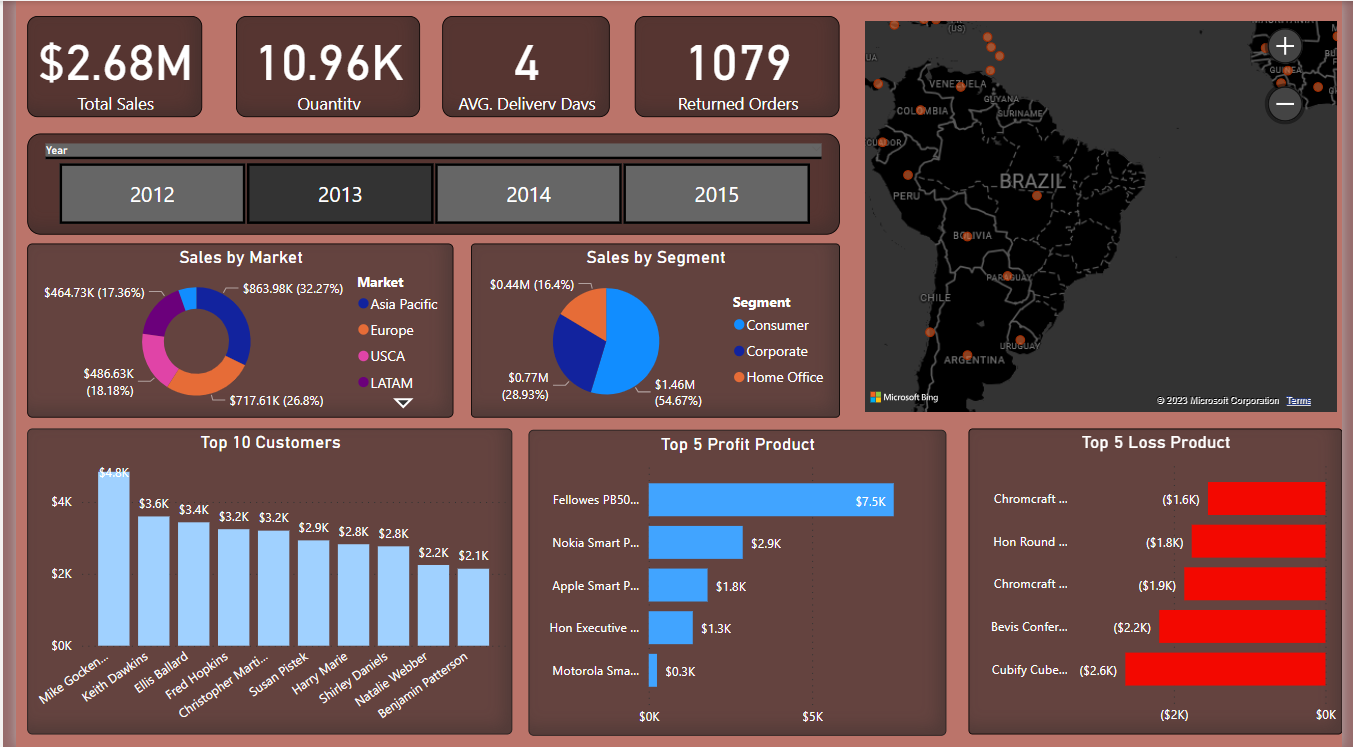

The page's visual inventory and layout, read from the dashboard file:
{"tool":"powerbi","page":{"name":"Page 1","canvas":[1280,720],"ordinal":0},"visuals":[{"type":"card","fields":{"Values":["Orders.Sales"]},"box":[10.9,14.5,168.8,97.7],"z":0},{"type":"card","fields":{"Values":["Orders.Quantity"]},"box":[212.3,14.5,177.3,97.7],"z":1},{"type":"card","fields":{"Values":["Orders.Delivery Days"]},"box":[411.3,14.5,161.6,97.7],"z":2},{"type":"slicer","fields":{"Values":["Orders.Year"]},"box":[10.9,127.8,783.9,97.7],"z":3},{"type":"card","fields":{"Values":["Returns.Returned Orders"]},"box":[597,14.5,197.8,97.7],"z":4},{"type":"map","fields":{"Category":["Orders.Country","Orders.Region"]},"box":[814.1,14.5,465.5,387.1],"z":5},{"type":"clusteredBarChart","title":"Top 5 Profit Product","fields":{"Category":["Orders.Product Name"],"Y":["Orders.Profit"]},"box":[494.5,413.7,402.8,295.5],"z":6},{"type":"clusteredBarChart","title":"Top 5 Loss Product","fields":{"Category":["Orders.Product Name"],"Y":["Orders.Profit"]},"box":[919,412.5,360.6,295.5],"z":7},{"type":"pieChart","title":"Sales by Segment","fields":{"Category":["Orders.Segment"],"Y":["Orders.Sales"]},"box":[439,234,355.8,167.6],"z":9},{"type":"donutChart","title":"Sales by Market","fields":{"Category":["Orders.Market"],"Y":["Orders.Sales"]},"box":[10.9,234,411.3,167.6],"z":10},{"type":"columnChart","title":"Top 10 Customers","fields":{"Category":["Orders.Customer Name"],"Y":["Orders.Profit"]},"box":[10.9,412.5,467.9,295.5],"z":11}]}

Visuals, with their boxes in screenshot pixels (x1, y1, x2, y2), scaled from the page's 1280x720 canvas onto the 1353x747 screenshot:
card - Orders.Sales: locate(12, 15, 190, 116)
card - Orders.Quantity: locate(224, 15, 412, 116)
card - Orders.Delivery Days: locate(435, 15, 606, 116)
slicer - Orders.Year: locate(12, 133, 840, 234)
card - Returns.Returned Orders: locate(631, 15, 840, 116)
map - Orders.Country x Orders.Region: locate(861, 15, 1352, 417)
"Top 5 Profit Product" clusteredBarChart: locate(523, 429, 948, 736)
"Top 5 Loss Product" clusteredBarChart: locate(971, 428, 1352, 735)
"Sales by Segment" pieChart: locate(464, 243, 840, 417)
"Sales by Market" donutChart: locate(12, 243, 446, 417)
"Top 10 Customers" columnChart: locate(12, 428, 506, 735)
